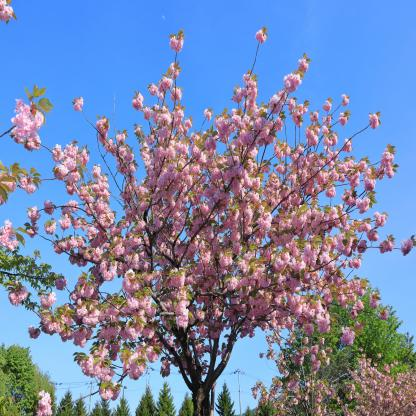YaeSakura: (2, 27, 412, 416), (264, 293, 347, 416), (343, 350, 416, 416)
